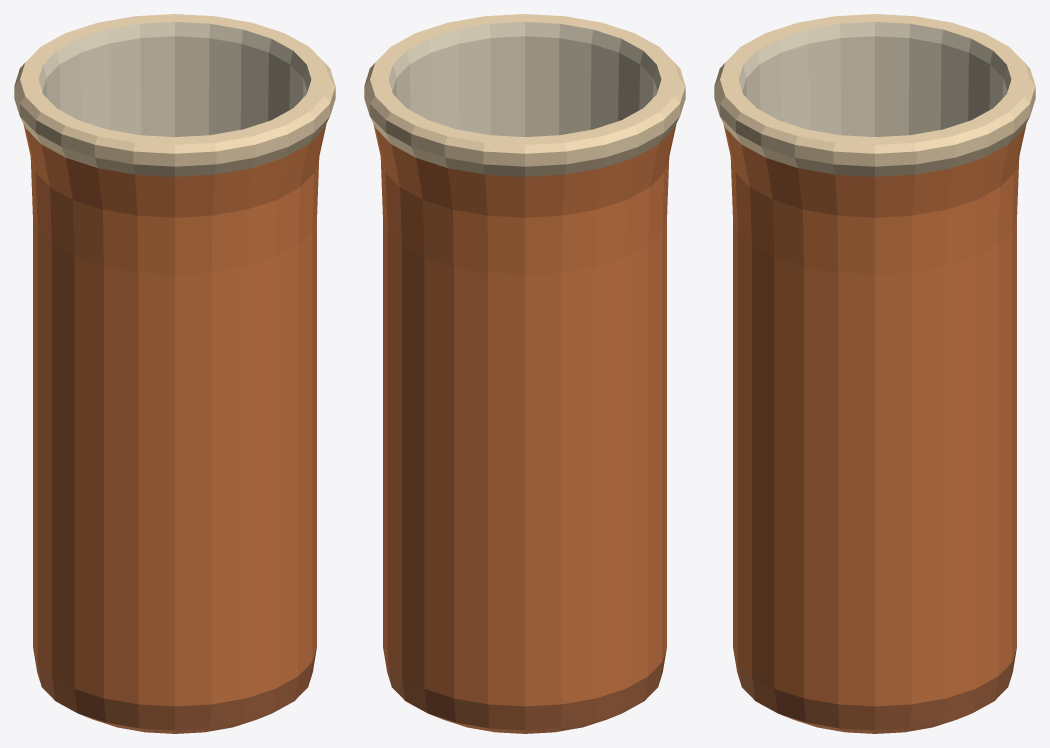
File: cup.glb
The picture shows the model from 3 angles, left to right: view 1: azimuth 30°, elevation 25°; view 2: azimuth 150°, elevation 25°; view 3: azimuth 270°, elevation 25°; orthographic projection.
Visible parts, largest first — view 1: Tasting cup; view 2: Tasting cup; view 3: Tasting cup.
Part boxes in pixels (left/top/right/bottom): Tasting cup: left=14, top=14, right=335, bottom=733; Tasting cup: left=364, top=14, right=685, bottom=733; Tasting cup: left=714, top=14, right=1035, bottom=733.
Bounding box in the file's own units: 0.0452 × 0.094 × 0.0452.
